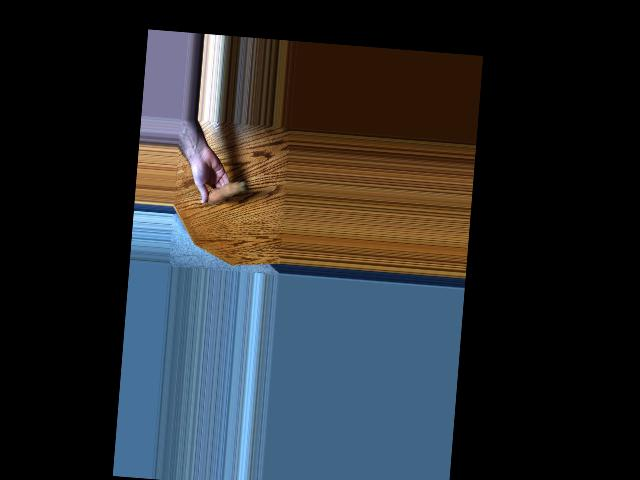sweet_potato: (202, 176, 246, 207)
